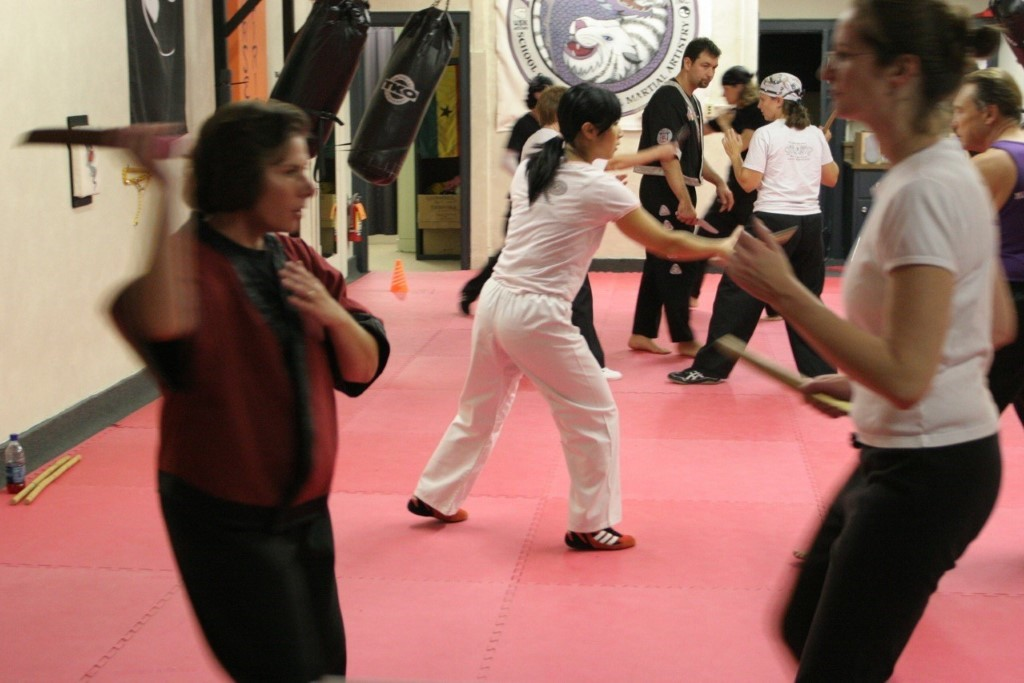baston_e: (727, 335, 847, 416), (37, 121, 136, 150), (12, 459, 69, 497), (25, 459, 80, 496)
baston_v: (12, 122, 35, 152), (709, 330, 732, 354), (22, 495, 34, 505), (9, 495, 18, 505), (72, 453, 83, 460), (61, 454, 71, 460)
